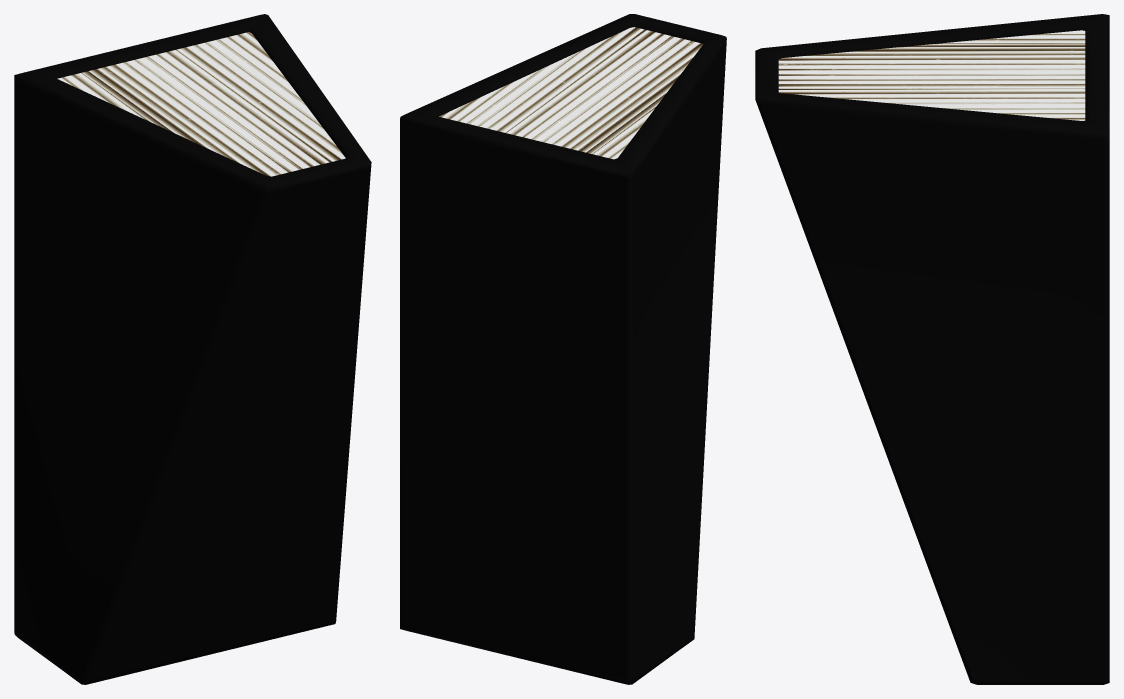
File: SM_WallLight_009.FBX
3 views of the same model, side by side, from view 1: azimuth 30°, elevation 25°; view 2: azimuth 150°, elevation 25°; view 3: azimuth 270°, elevation 25° (orthographic). The views are drawn at different scales.
Parts seen in each view (by area): view 1: SM_WallLight_009; view 2: SM_WallLight_009; view 3: SM_WallLight_009.
Part boxes in pixels (box(x1,y1,x2,y2)): SM_WallLight_009: box(14, 14, 371, 684); SM_WallLight_009: box(400, 14, 726, 684); SM_WallLight_009: box(755, 14, 1109, 684).
Size of the model in its own units: 9.91 by 12.15 by 20.88.
